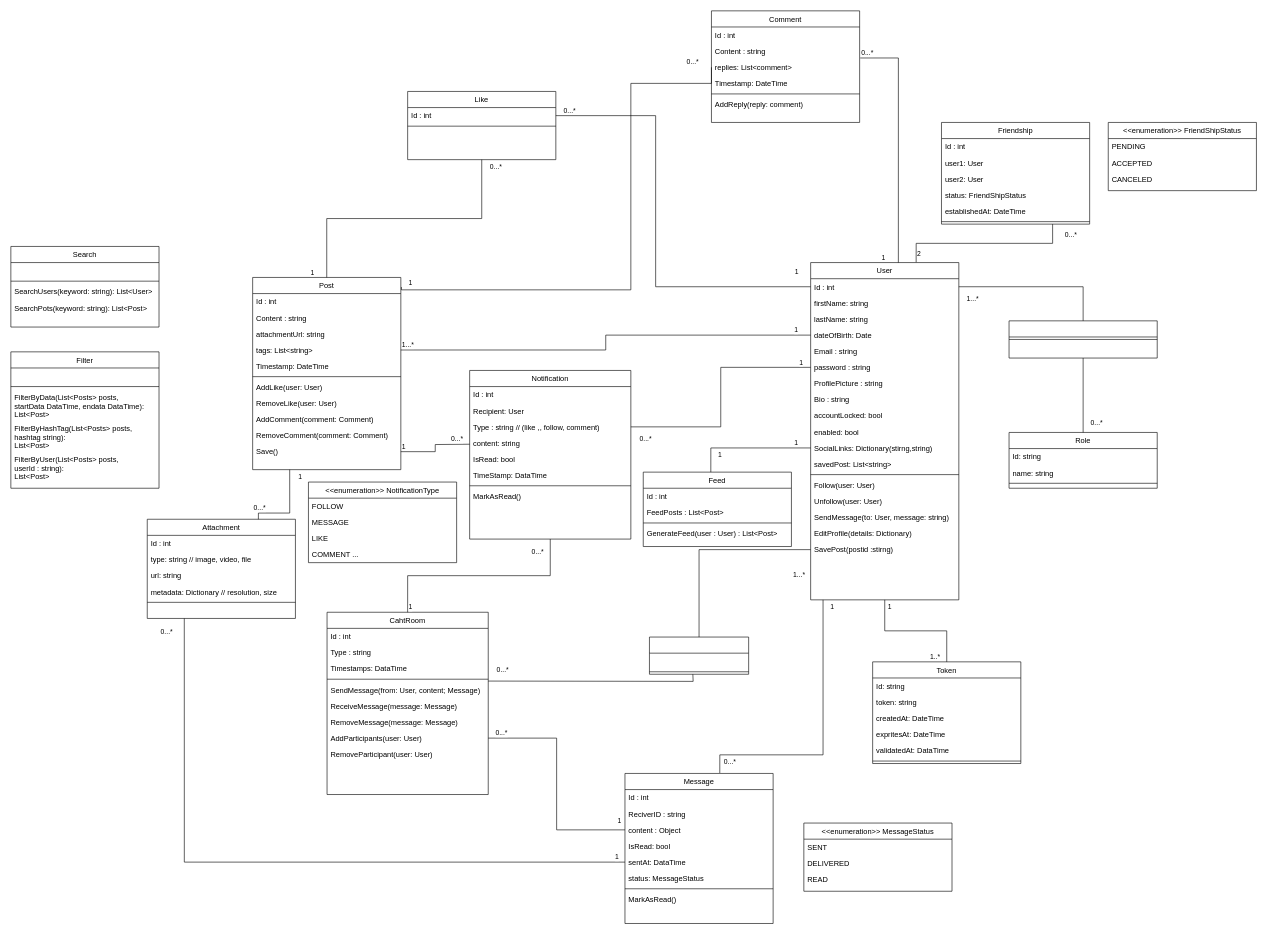
Image size: 1267x934. Some labels were removed from this diagram. The centre of each missing label's shape, as x and y in pixels:
Paricipate: pixel 699 655
User_Role: pixel 1082 339
